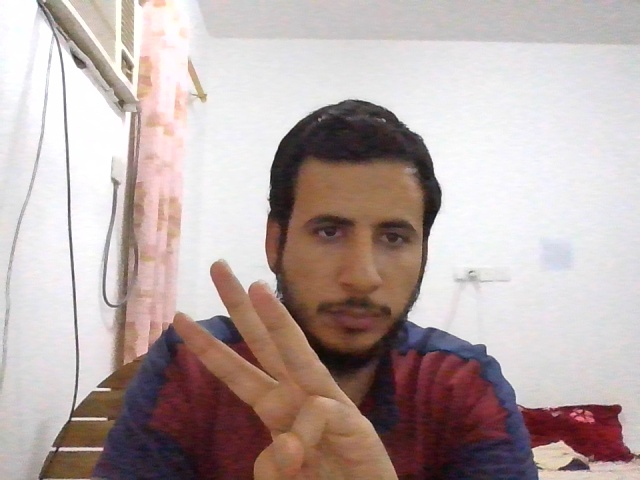Three: (174, 260, 389, 480)
